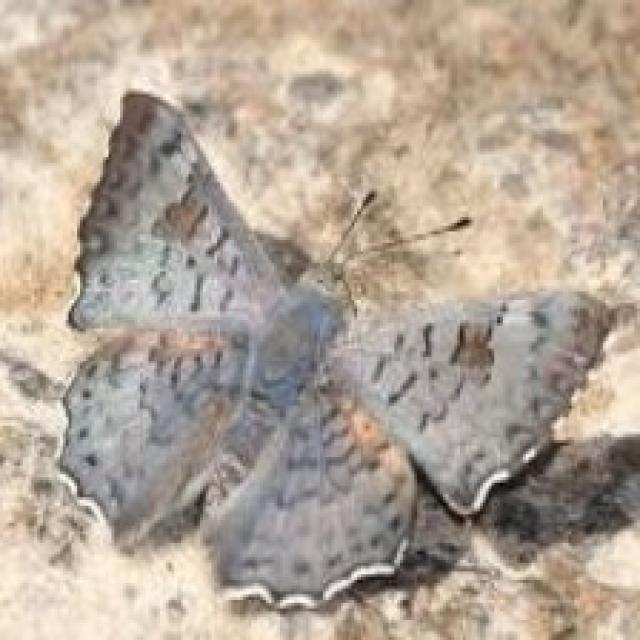butterfly: (54, 86, 617, 614)
